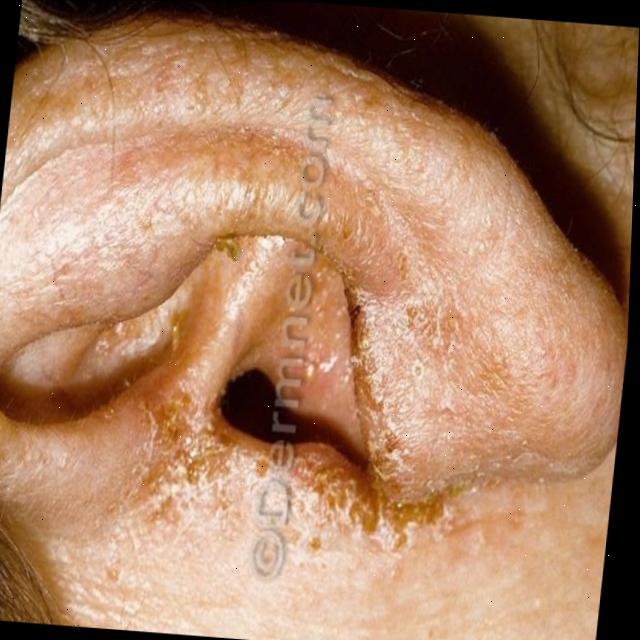Eczema: (0, 11, 552, 599)
